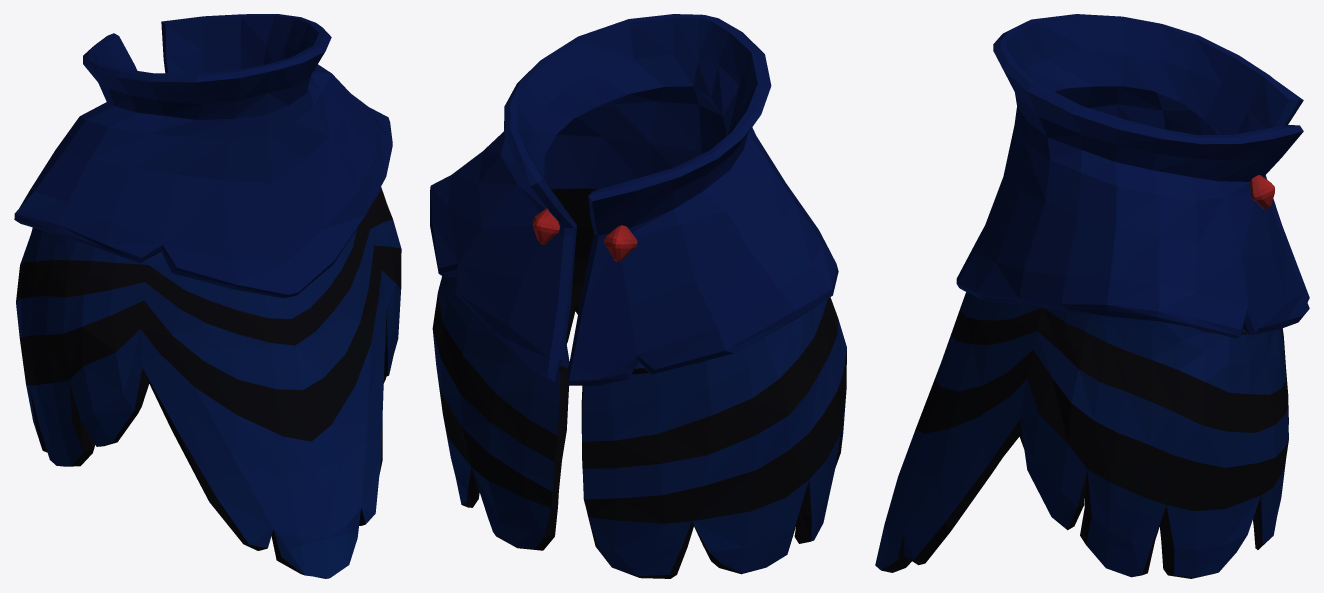
Rendered from CharSkyKid_Wing_Raven.glb.
The picture shows the model from 3 angles, left to right: view 1: azimuth 30°, elevation 25°; view 2: azimuth 150°, elevation 25°; view 3: azimuth 270°, elevation 25°; orthographic projection. The views are drawn at different scales.
Visible parts, largest first — view 1: CharSkyKid_Wing_Raven; view 2: CharSkyKid_Wing_Raven; view 3: CharSkyKid_Wing_Raven.
Boxes of the visible parts, box(x1,y1,x2,y2) form: CharSkyKid_Wing_Raven: box(14, 14, 401, 578); CharSkyKid_Wing_Raven: box(430, 14, 846, 578); CharSkyKid_Wing_Raven: box(875, 14, 1309, 578).
Bounding box in the file's own units: 5.8 × 7.02 × 5.27.
1 material, 1 textured.
